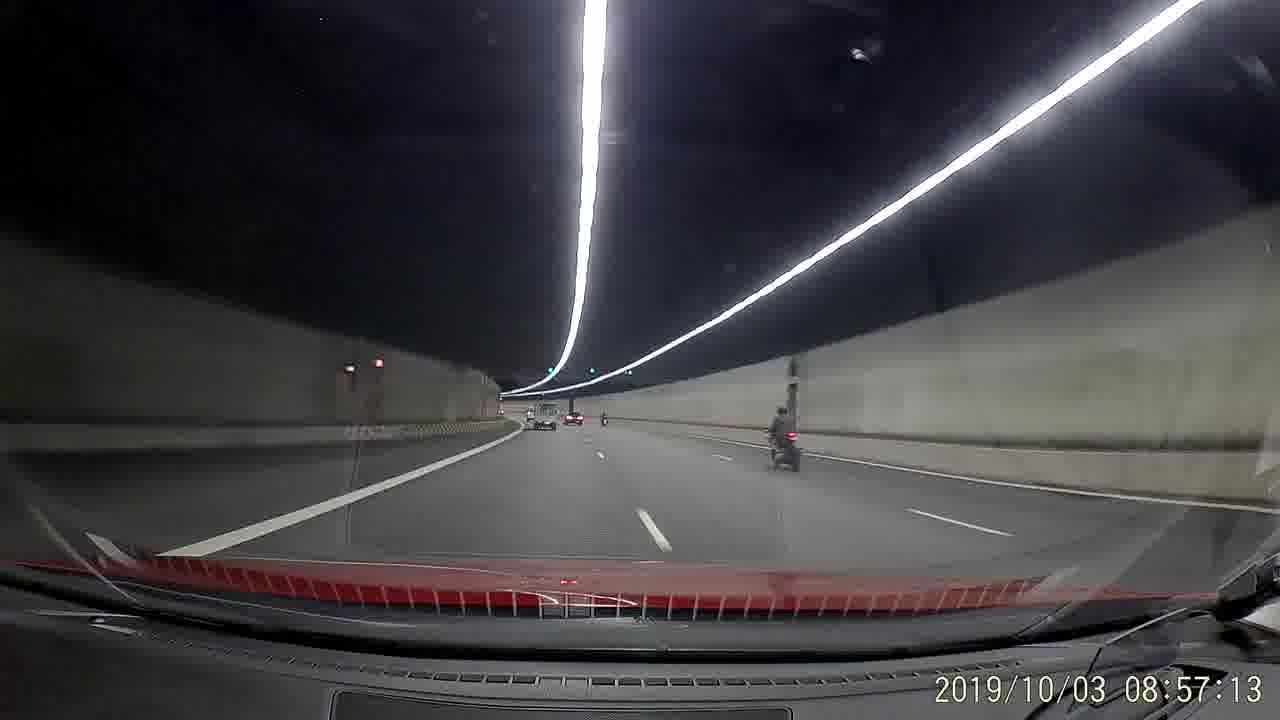car: (562, 410, 582, 426)
